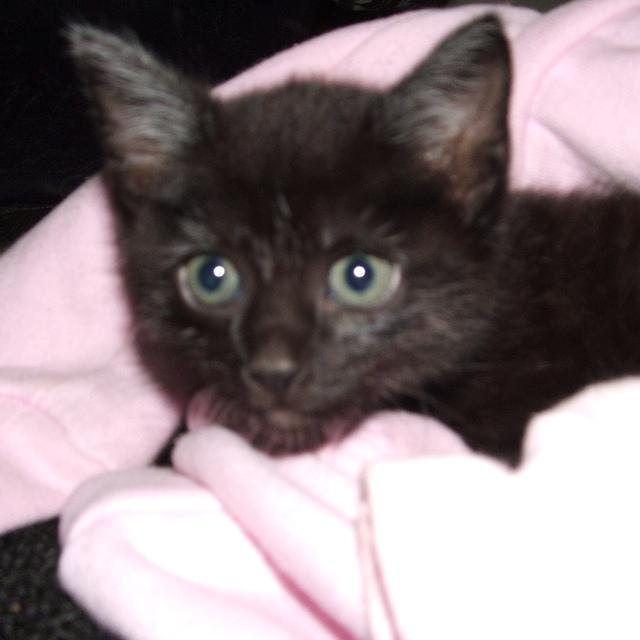animals: (70, 17, 494, 390)
